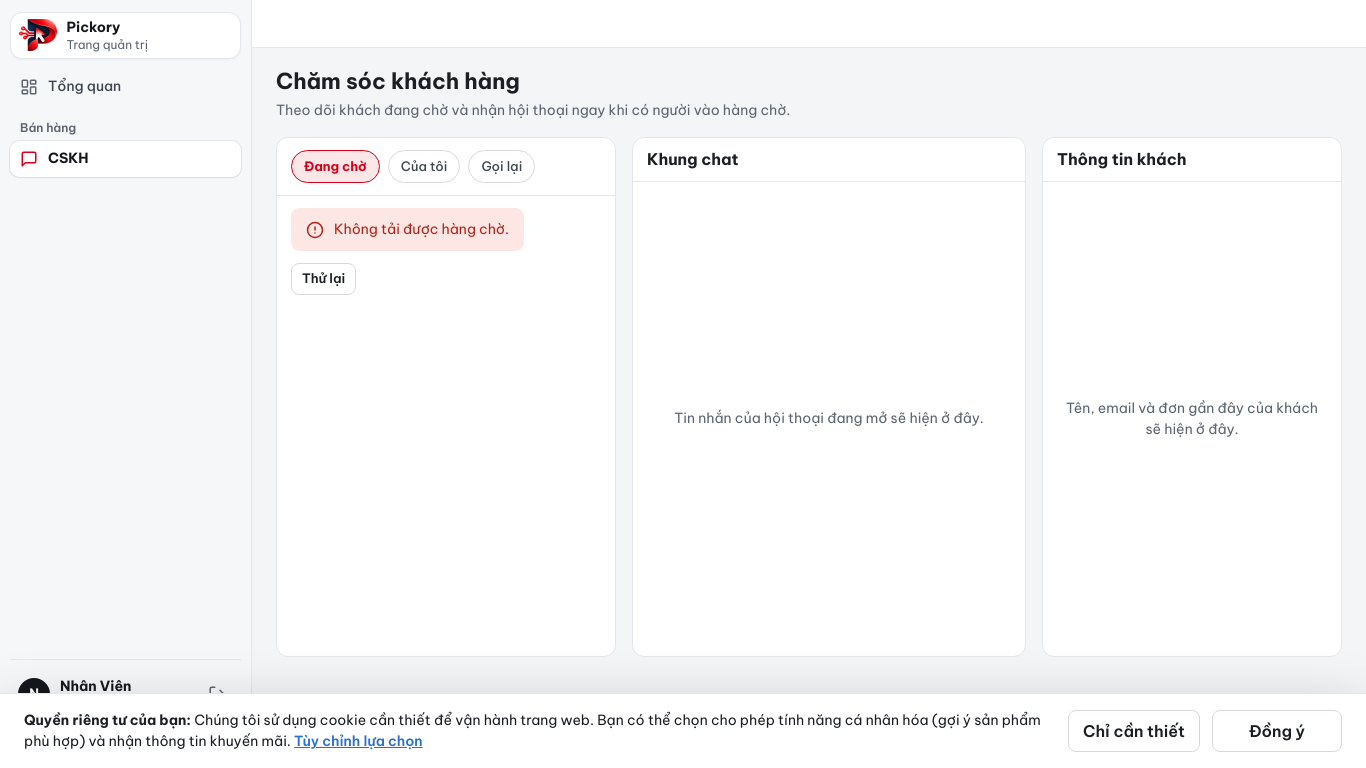
Test: hàng chờ › route chưa có trả 404: hiện lỗi ngắn và nút Thử lại, trang không vỡ, không có badge
The width and height of the screenshot is (1366, 768).
Expected: the element showing "Đang chờ Của tôi Gọi lại" is shown, [277,138,615,196]
Click the button "Thử lại". click: (324, 279)
box: [291,263,356,295]
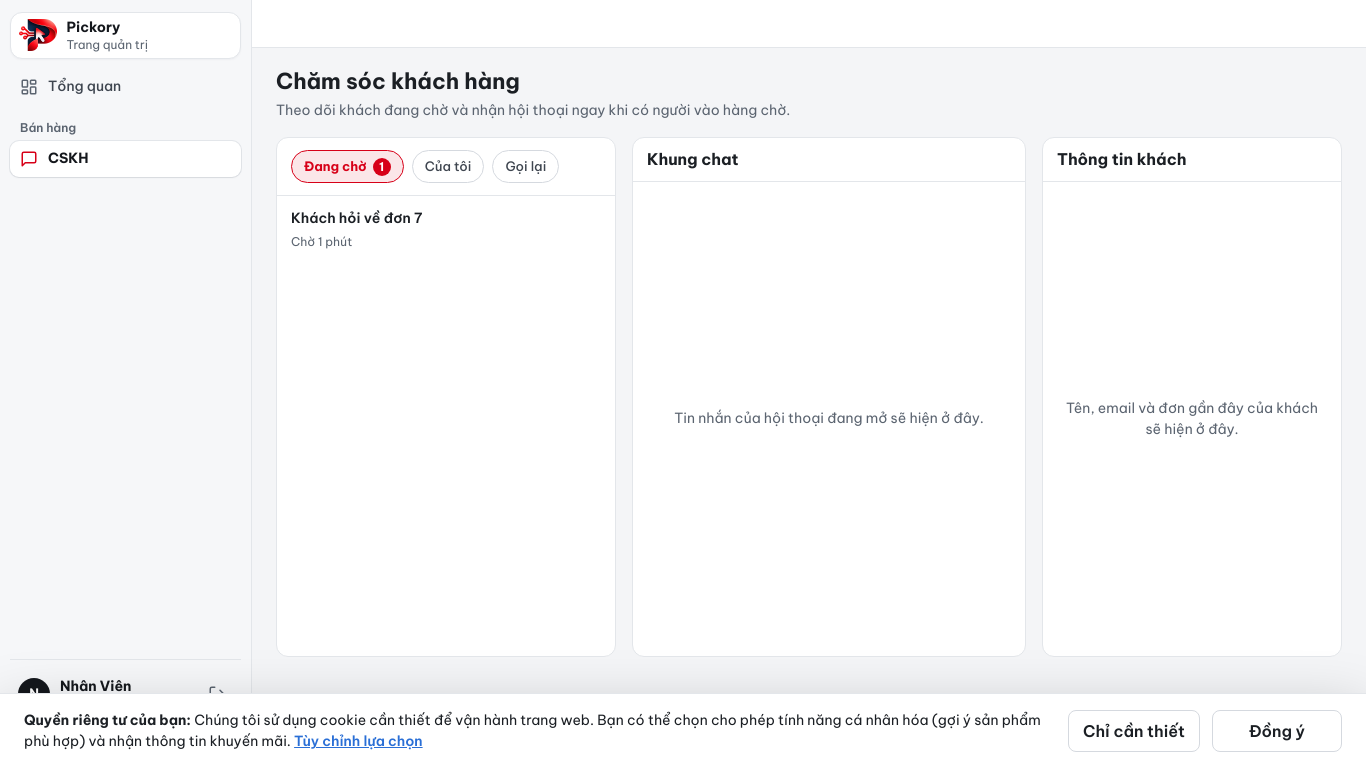
Expected: the message "Không tải được hàng chờ." is gone
